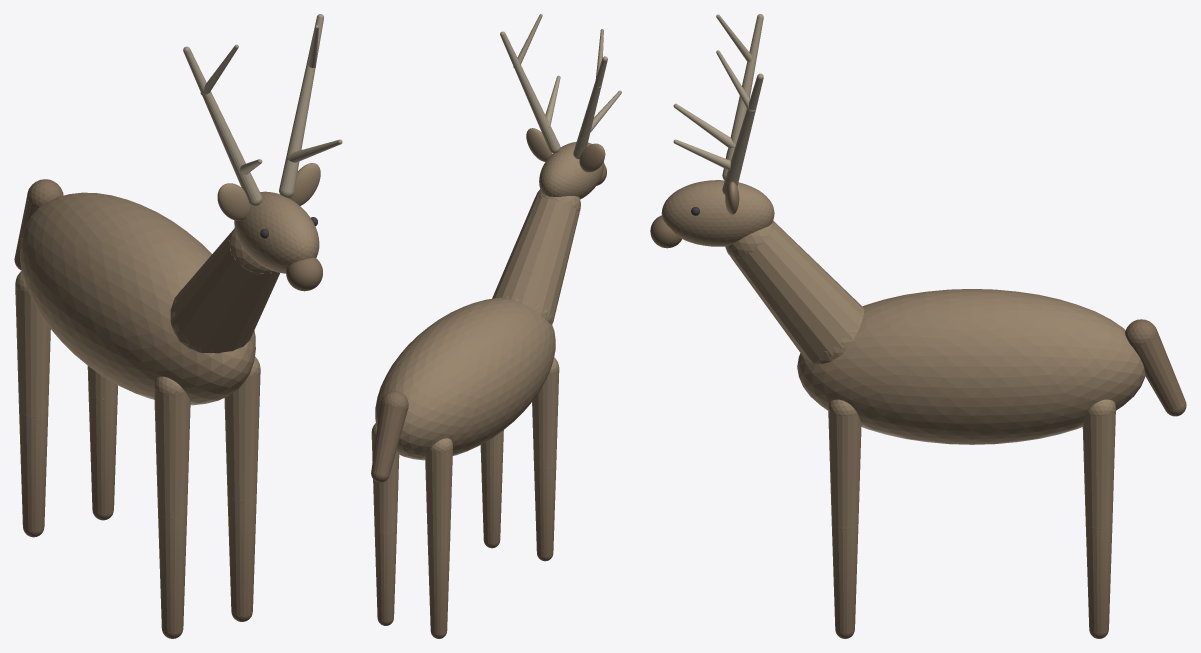
File: rusa-sambar.glb
3 renders of one model, left to right at view 1: azimuth 30°, elevation 25°; view 2: azimuth 150°, elevation 25°; view 3: azimuth 270°, elevation 25°, orthographic. The views are drawn at different scales.
Visible parts, largest first — view 1: rusa-sambar; view 2: rusa-sambar; view 3: rusa-sambar.
Part boxes in pixels (bbox=[...]): rusa-sambar: bbox=[14, 14, 342, 638]; rusa-sambar: bbox=[371, 14, 621, 638]; rusa-sambar: bbox=[650, 14, 1186, 638].
Bounding box in the file's own units: 0.524 × 2.31 × 1.9.
